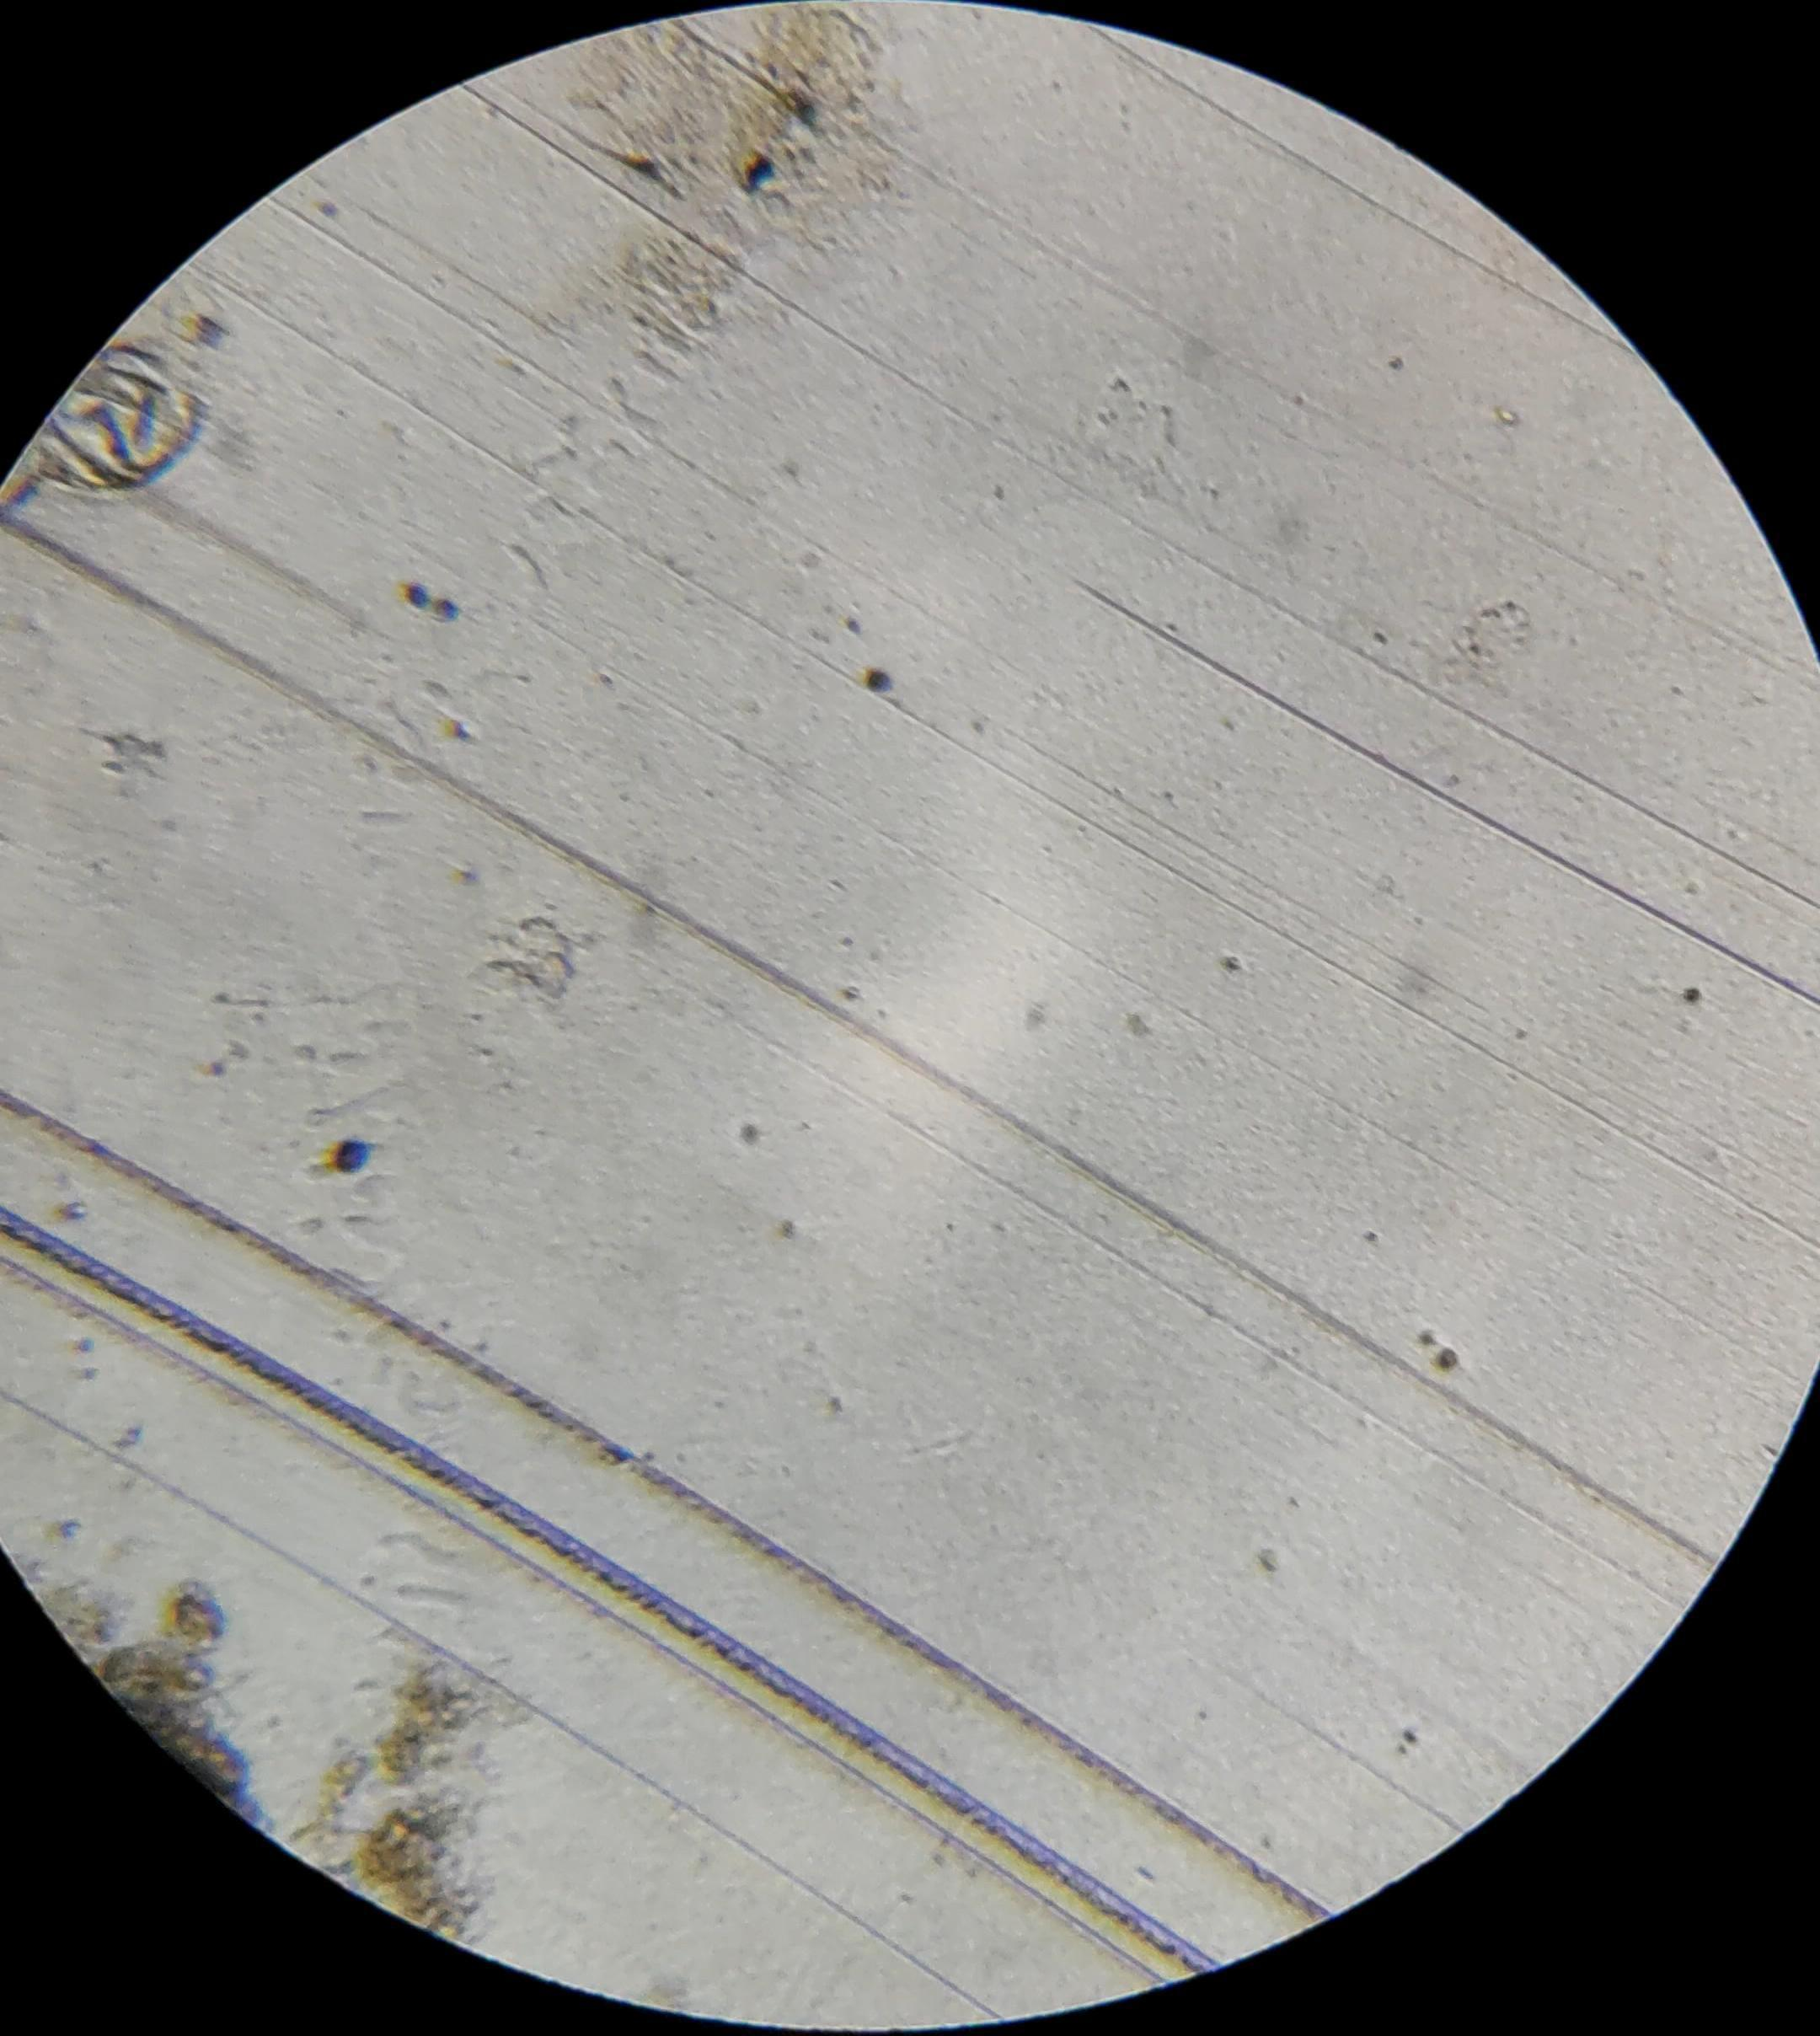Mo: (21, 334, 202, 488)
